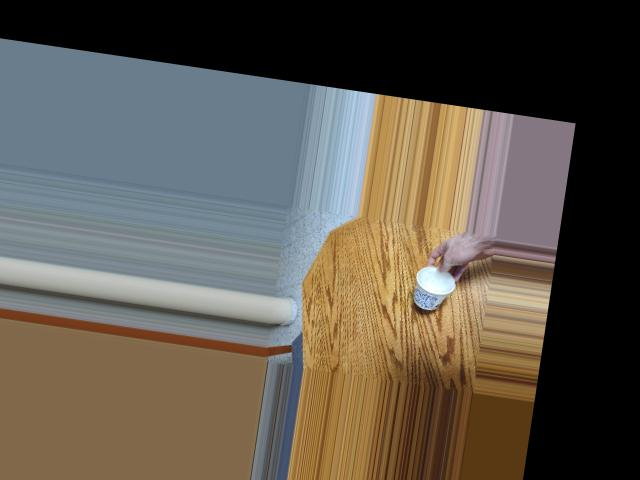cotage: (411, 264, 449, 316)
